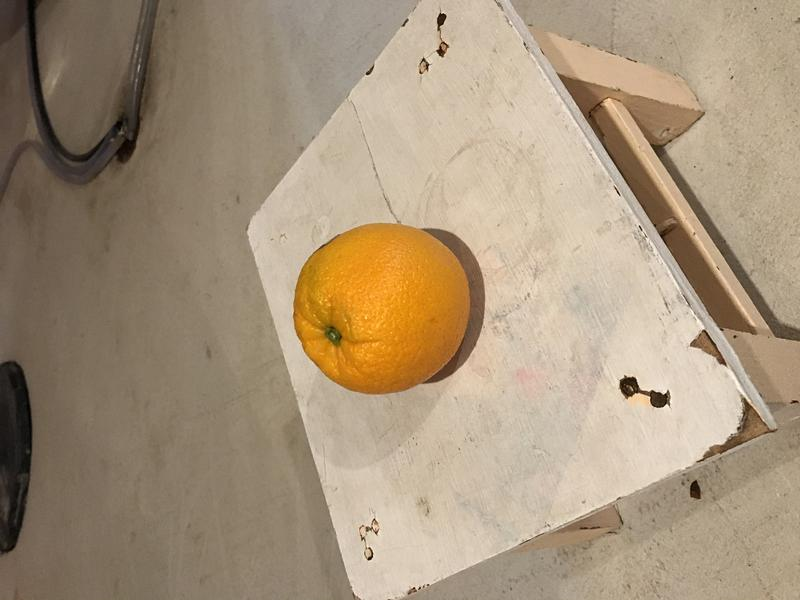orange: (289, 210, 478, 400)
